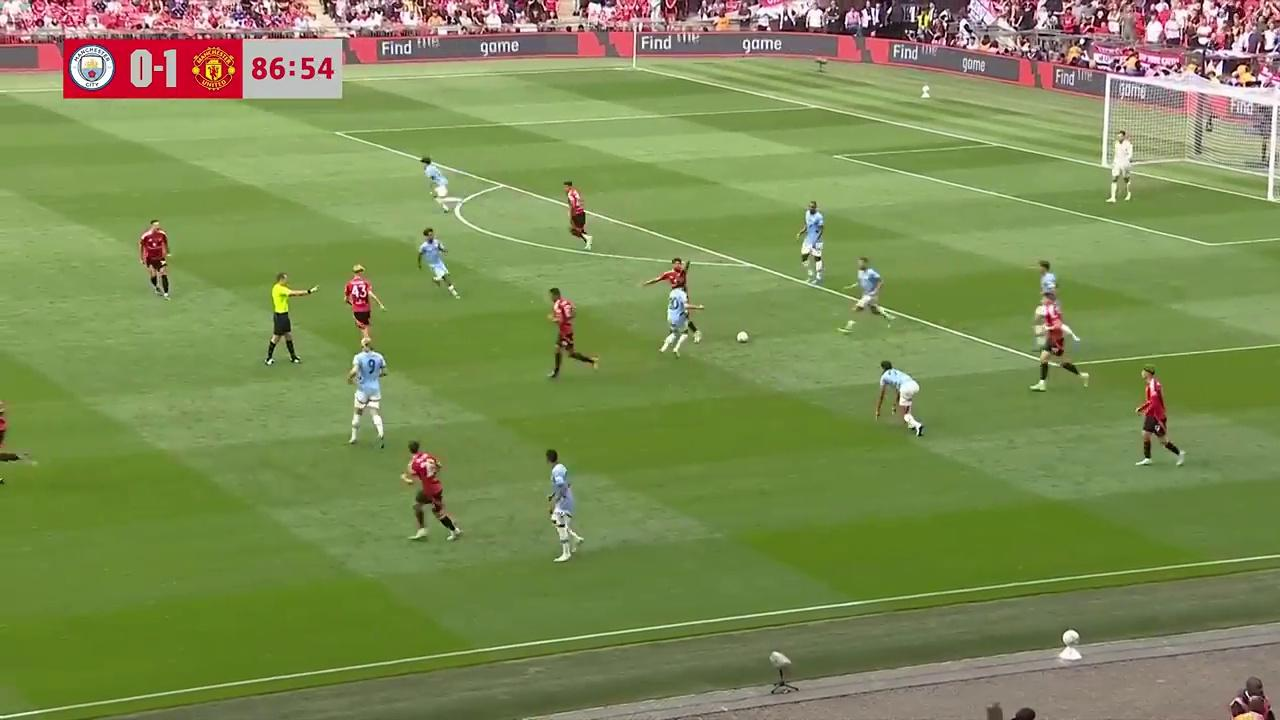ball: (734, 327, 749, 343)
player: (399, 441, 463, 541), (1034, 295, 1089, 390), (640, 256, 691, 355), (1134, 367, 1183, 466), (345, 339, 388, 448), (546, 287, 598, 377), (543, 449, 583, 561), (874, 361, 923, 437), (658, 282, 703, 357), (343, 262, 384, 344), (640, 256, 693, 319), (0, 395, 34, 489), (416, 227, 460, 298), (138, 219, 171, 298), (847, 257, 886, 322), (796, 199, 824, 284), (562, 180, 592, 251), (421, 157, 456, 214), (1107, 130, 1133, 202), (1107, 131, 1133, 202), (1034, 260, 1057, 331)
referee: (264, 271, 312, 366)
